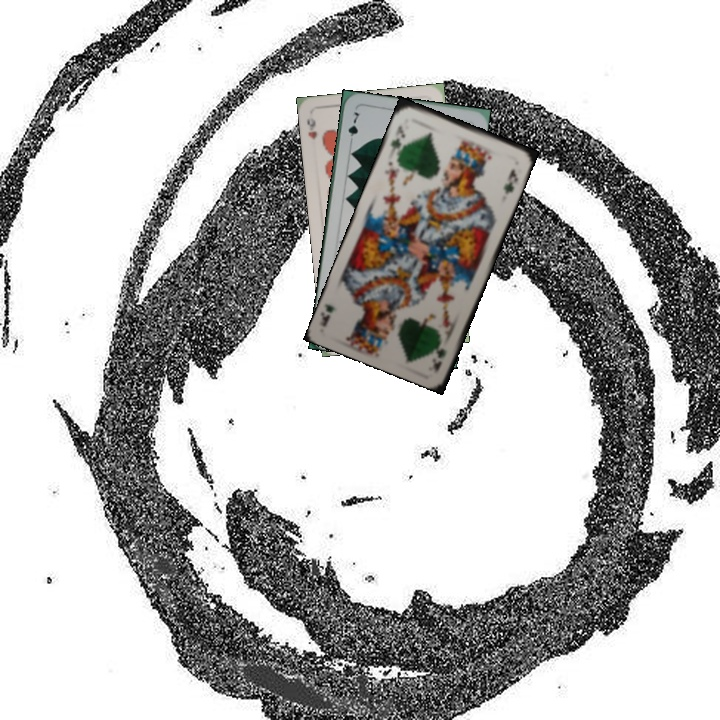G7: (344, 108, 362, 147)
GK: (429, 334, 449, 374), (386, 121, 408, 156)
H9: (303, 114, 319, 142)
